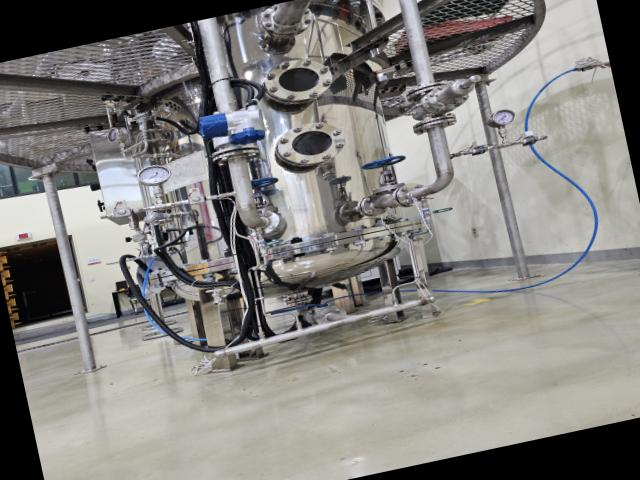Flange: (258, 52, 339, 112), (270, 116, 352, 174)
Flush Ring: (254, 0, 319, 42), (235, 204, 285, 240), (200, 140, 263, 168), (406, 109, 464, 138), (399, 76, 460, 102), (390, 178, 430, 210), (354, 190, 392, 220), (310, 302, 352, 329)
GasRegulator: (102, 104, 185, 172)
Nuts: (106, 203, 142, 223), (514, 131, 546, 150), (463, 142, 496, 160), (182, 191, 212, 209)
Piston Valve: (358, 147, 414, 197), (250, 171, 286, 209)
Pressure Gage: (132, 160, 180, 213), (480, 104, 524, 150)
